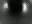person: (23, 3, 29, 16), (5, 3, 9, 13)
